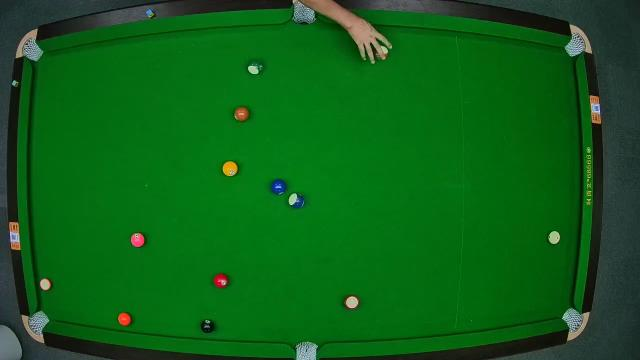bag1: (22, 40, 40, 60)
bag2: (294, 0, 316, 24)
bag3: (568, 34, 588, 56)
bag4: (30, 310, 48, 330)
bag5: (293, 339, 318, 360)
bag6: (563, 309, 583, 331)
ball0: (548, 230, 560, 244)
ball1: (222, 162, 238, 176)
ball10: (287, 193, 305, 209)
ball11: (344, 294, 361, 310)
ball12: (40, 277, 52, 291)
ball14: (246, 58, 264, 76)
ball15: (378, 44, 390, 62)
ball2: (270, 178, 286, 196)
ball3: (214, 272, 228, 288)
ball4: (131, 231, 145, 248)
ball5: (117, 312, 131, 326)
ball7: (234, 106, 250, 122)
ball8: (201, 318, 215, 334)
